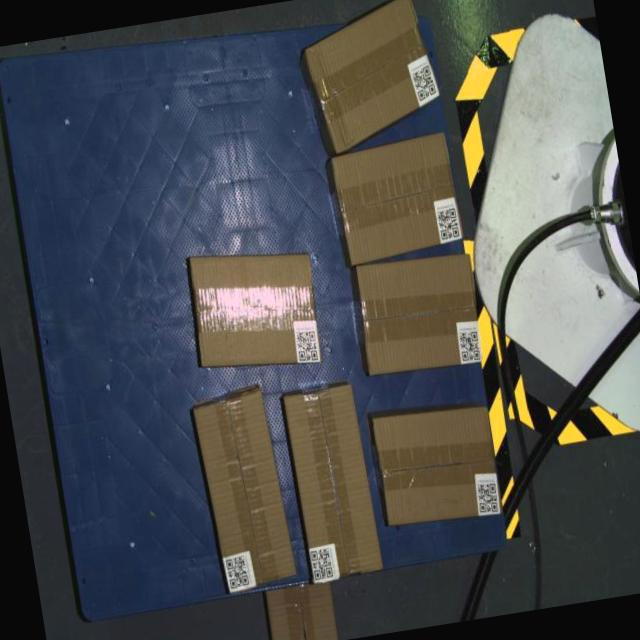box: (297, 0, 447, 157), (192, 390, 299, 596), (185, 240, 327, 382), (284, 384, 384, 585), (330, 132, 465, 266), (353, 249, 487, 380), (372, 401, 505, 532)
